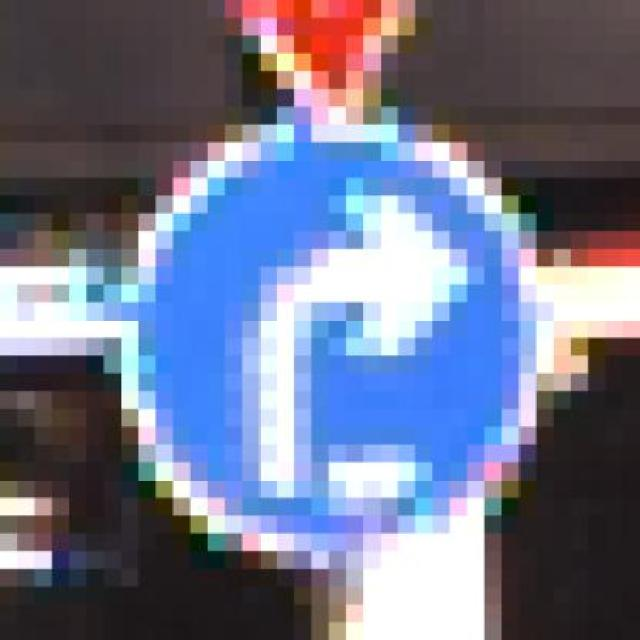Turn right ahead: (103, 89, 571, 586)
